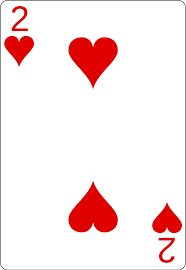two of hearts: (1, 1, 185, 268)
